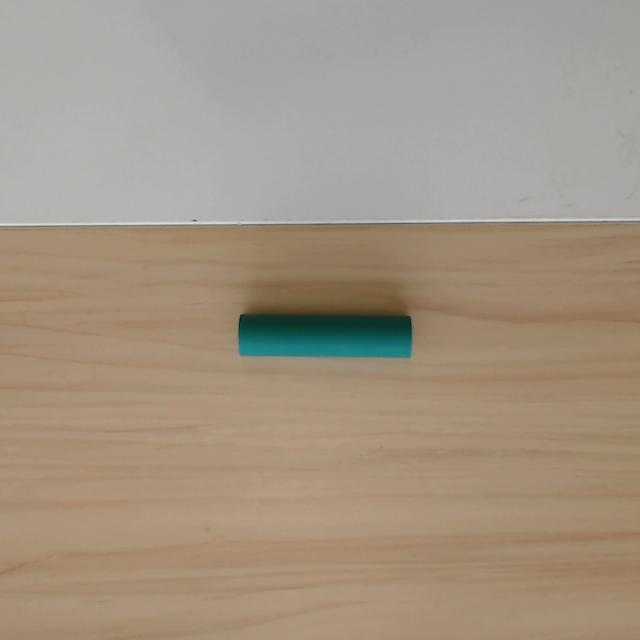Silinder-Hijau-10025: (238, 314, 412, 358)
